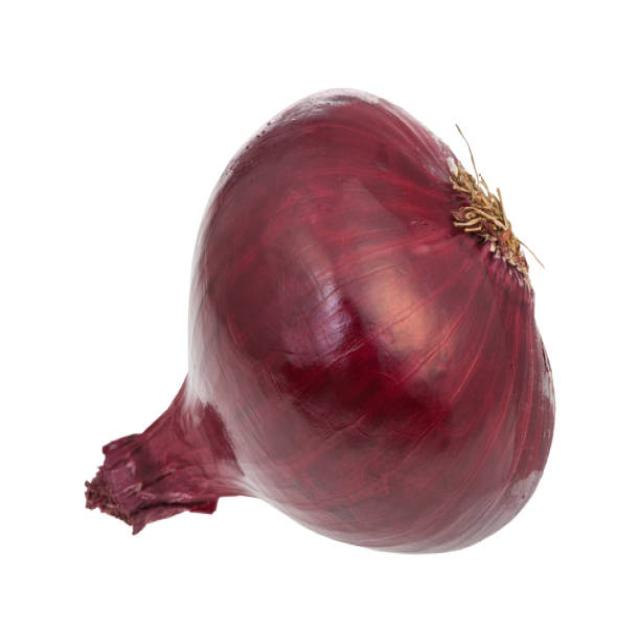onion: (169, 77, 560, 561)
